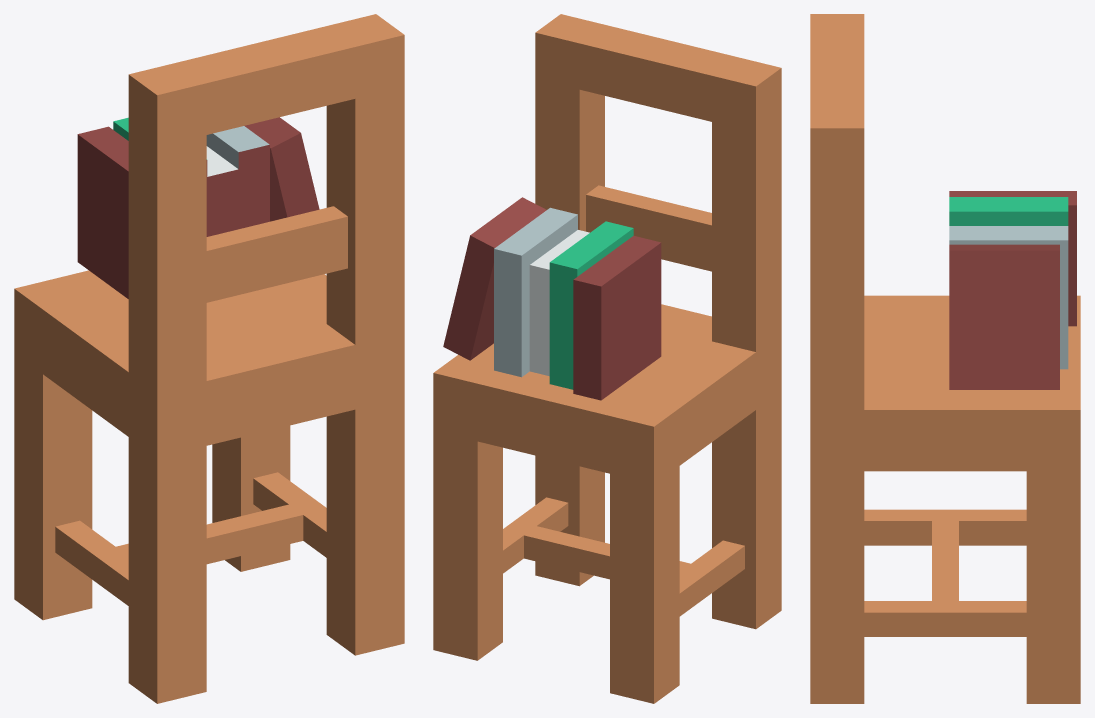
File: Chair1.fbx
3 views of the same model, side by side, from view 1: azimuth 30°, elevation 25°; view 2: azimuth 150°, elevation 25°; view 3: azimuth 270°, elevation 25° (orthographic). The views are drawn at different scales.
Visible parts, largest first — view 1: chair, books; view 2: chair, books; view 3: chair, books.
Boxes of the visible parts, box(x1,y1,x2,y2) form: chair: box(14, 14, 404, 703); books: box(77, 117, 319, 298); chair: box(433, 14, 781, 703); books: box(443, 197, 661, 400); chair: box(810, 14, 1080, 703); books: box(949, 191, 1076, 389).
Size of the model in its own units: 4 by 9.4 by 4.
